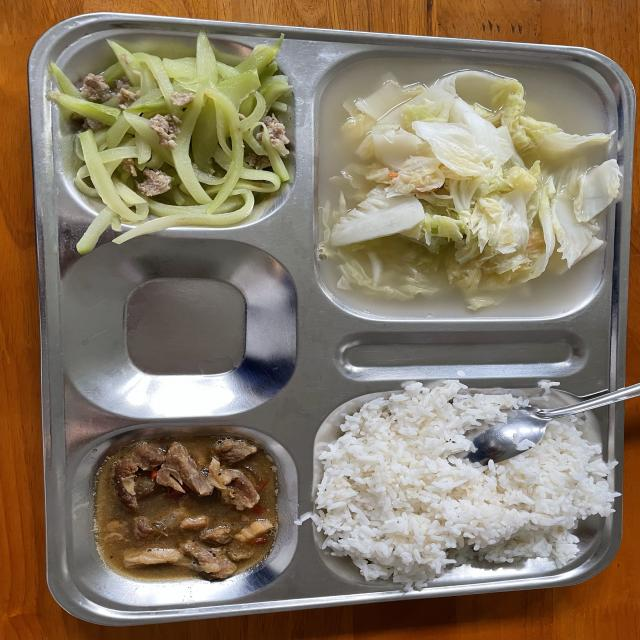com_trang: (340, 411, 601, 568)
thit_kho: (111, 449, 269, 572)
